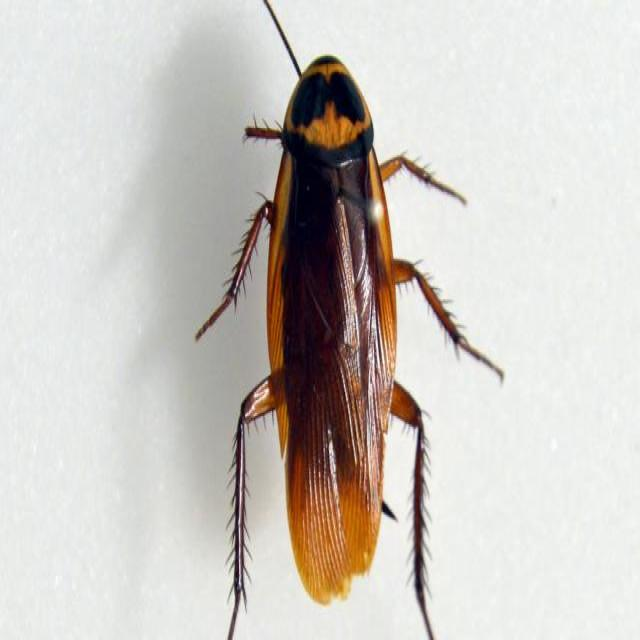Cockroach: (192, 25, 473, 640)
